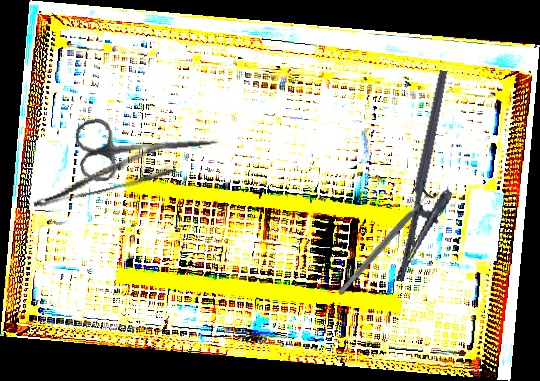Dressing Forceps: (26, 140, 178, 211)
Fixation Ring: (331, 180, 440, 301)
Iris Scissors: (74, 107, 222, 184)
Needle Holder: (393, 69, 478, 289)
